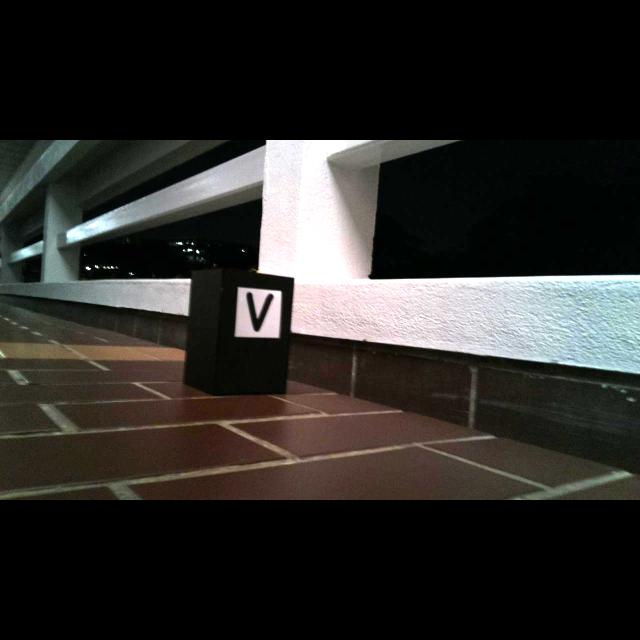V: (246, 292, 273, 332)
